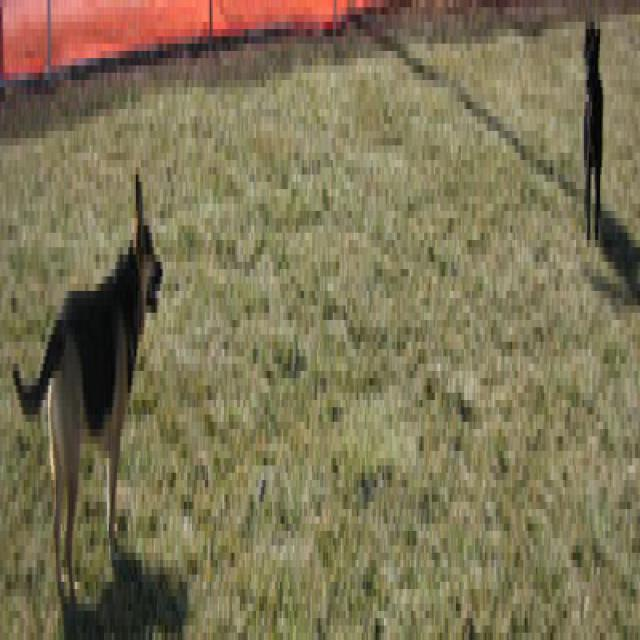dog: (11, 161, 164, 605), (580, 16, 606, 241)
